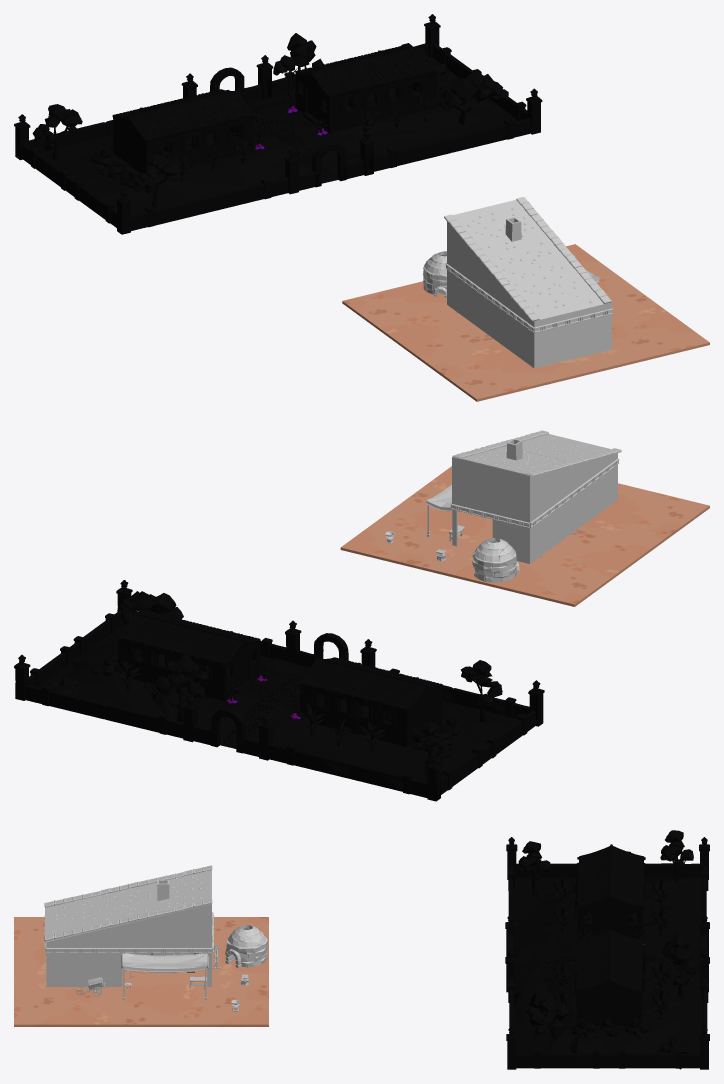
File: New blacksmith.fbx
3 renders of one model, top to bottom at view 1: azimuth 30°, elevation 25°; view 2: azimuth 150°, elevation 25°; view 3: azimuth 270°, elevation 25°, orthographic. The views are drawn at different scales.
Visible parts, largest first — view 1: Granary, Cube.006, Cube.001, SM_Bld_Roof_Straight_Thin_Large_01_1, SM_Bld_Roof_Straight_Thin_Large_01, Cube.008, SM_Prop_Kiln_01, SM_Bld_Roof_Straight_Thin_Large_01_Trim_01_1; view 2: Granary, Cube.006, Cube.008, Cube.001, SM_Prop_Kiln_01, SM_Bld_Roof_Straight_Thin_Large_01_1, SM_Bld_Roof_Straight_Thin_Large_01; view 3: Granary, Cube.006, Cube.008, Cube.001, SM_Bld_Roof_Straight_Thin_Large_01_1, SM_Bld_Roof_Straight_Thin_Large_01, SM_Prop_Banner_Roof_02, SM_Prop_Kiln_01, SM_Bld_Roof_Straight_Thin_Large_01_Trim_01.001, SM_Bld_Roof_Straight_Thin_Large_01_Trim_01_1.001, SM_Bld_Roof_Straight_Thin_Large_01_Trim_01, SM_Bld_Roof_Straight_Thin_Large_01_Trim_01_1.
Boxes of the visible parts, x1,y1,x2,y2 form: Granary: (14, 14, 542, 234); Cube.006: (342, 244, 709, 401); Cube.001: (447, 270, 611, 368); SM_Bld_Roof_Straight_Thin_Large_01_1: (497, 252, 612, 321); SM_Bld_Roof_Straight_Thin_Large_01: (453, 200, 559, 267); Cube.008: (447, 222, 611, 327); SM_Prop_Kiln_01: (423, 251, 446, 297); SM_Bld_Roof_Straight_Thin_Large_01_Trim_01_1: (488, 266, 539, 321); Granary: (14, 580, 544, 801); Cube.006: (340, 448, 709, 606); Cube.008: (452, 453, 617, 522); Cube.001: (452, 457, 617, 563); SM_Prop_Kiln_01: (472, 538, 519, 582); SM_Bld_Roof_Straight_Thin_Large_01_1: (505, 434, 610, 461); SM_Bld_Roof_Straight_Thin_Large_01: (461, 446, 566, 474); Granary: (505, 830, 709, 1069); Cube.006: (14, 917, 268, 1026); Cube.008: (46, 904, 211, 947); Cube.001: (46, 870, 211, 986); SM_Bld_Roof_Straight_Thin_Large_01_1: (45, 889, 128, 941); SM_Bld_Roof_Straight_Thin_Large_01: (128, 870, 211, 922); SM_Prop_Banner_Roof_02: (121, 953, 208, 972); SM_Prop_Kiln_01: (225, 925, 268, 967); SM_Bld_Roof_Straight_Thin_Large_01_Trim_01.001: (128, 899, 212, 921); SM_Bld_Roof_Straight_Thin_Large_01_Trim_01_1.001: (44, 918, 128, 940); SM_Bld_Roof_Straight_Thin_Large_01_Trim_01: (128, 865, 212, 888); SM_Bld_Roof_Straight_Thin_Large_01_Trim_01_1: (44, 884, 128, 907).
Size of the model in its own units: 1805 by 413 by 2730.
